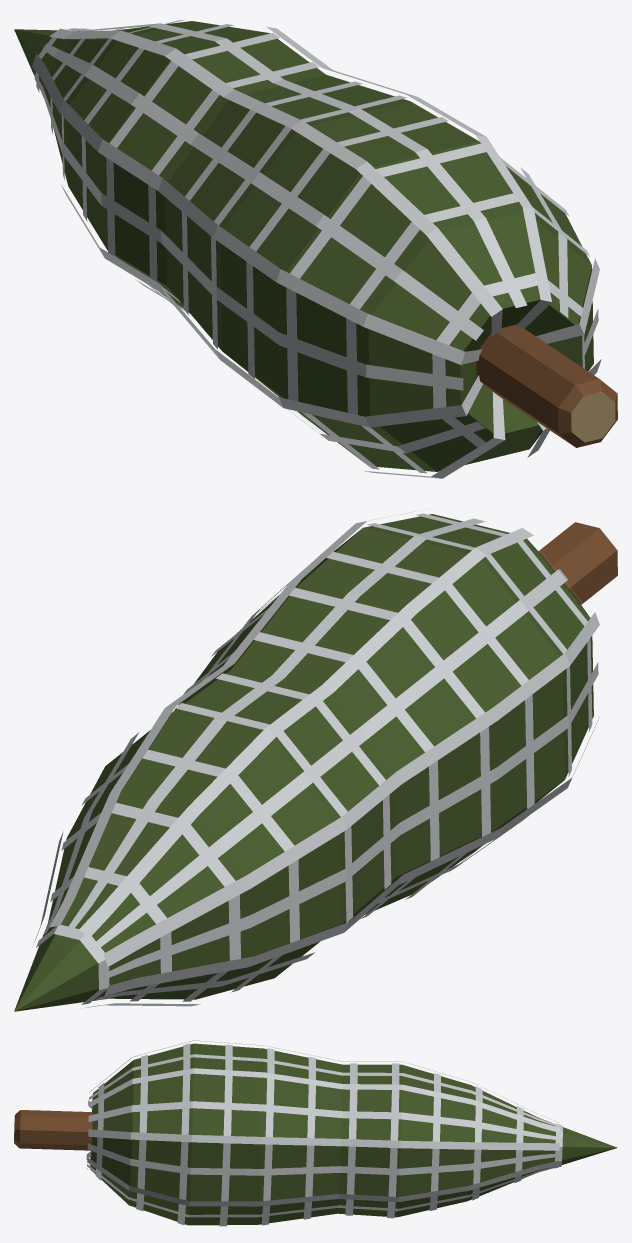
Rendered from netted-tree-bundle-1bd759.glb.
The picture shows the model from 3 angles, top to bottom: view 1: azimuth 30°, elevation 25°; view 2: azimuth 150°, elevation 25°; view 3: azimuth 270°, elevation 25°; orthographic projection. The views are drawn at different scales.
Visible parts, largest first — view 1: netted-tree-bundle-mesh; view 2: netted-tree-bundle-mesh; view 3: netted-tree-bundle-mesh.
Boxes of the visible parts, <box> form: netted-tree-bundle-mesh: <box>14,19,617,478</box>; netted-tree-bundle-mesh: <box>14,509,617,1011</box>; netted-tree-bundle-mesh: <box>14,1040,617,1226</box>.
Size of the model in its own units: 0.6402 by 0.6398 by 2.19.
